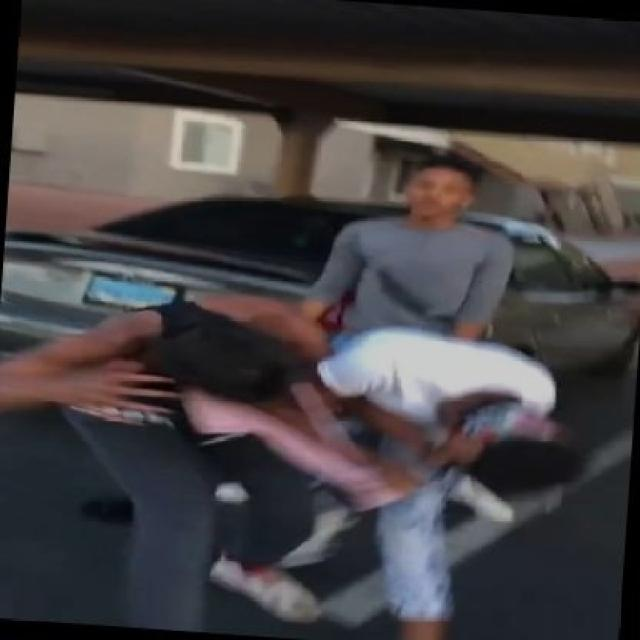fight: (53, 145, 584, 640)
non-fight: (272, 146, 520, 640)
